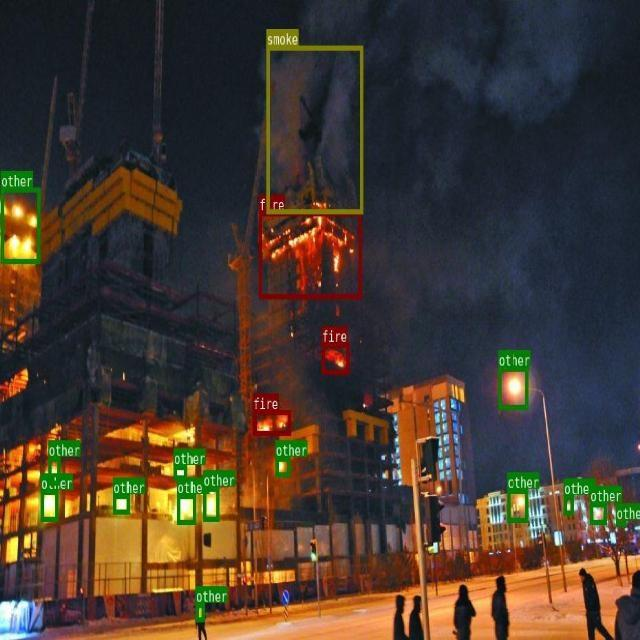fire: (259, 211, 361, 297), (252, 410, 290, 435), (321, 342, 348, 374)
smoke: (266, 45, 362, 212)
